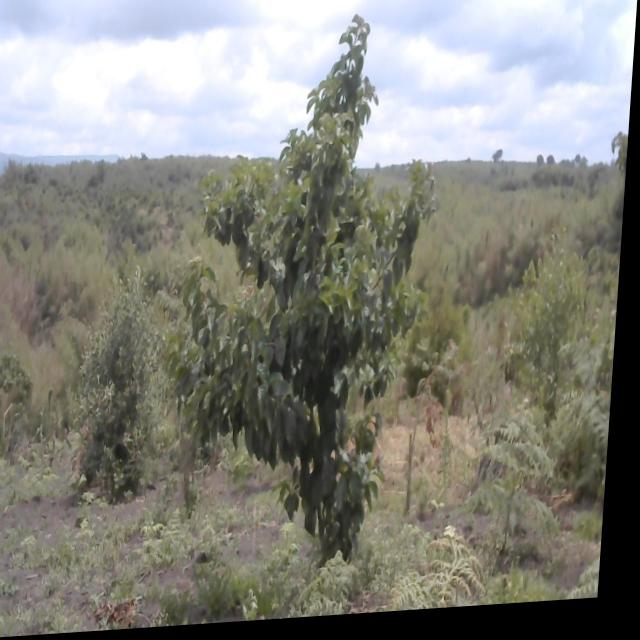Hass Avocado: (168, 19, 449, 570)
Salix alba: (74, 283, 181, 489)
other: (516, 241, 596, 404), (0, 349, 44, 443)
